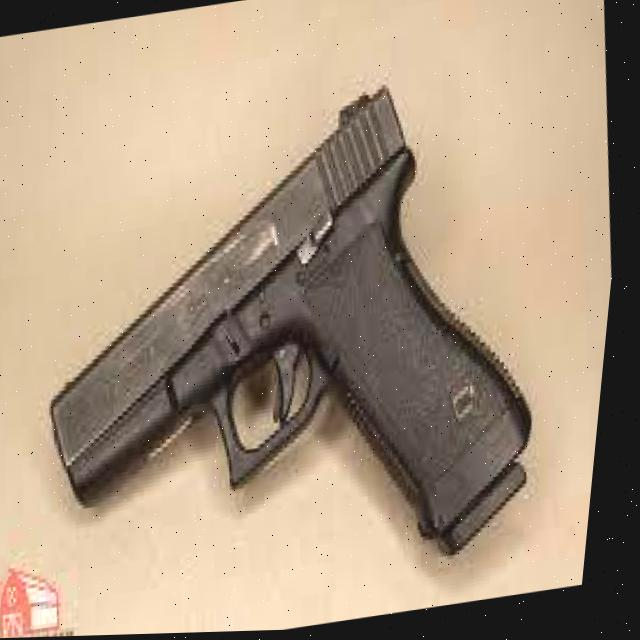gun: (47, 89, 533, 560)
